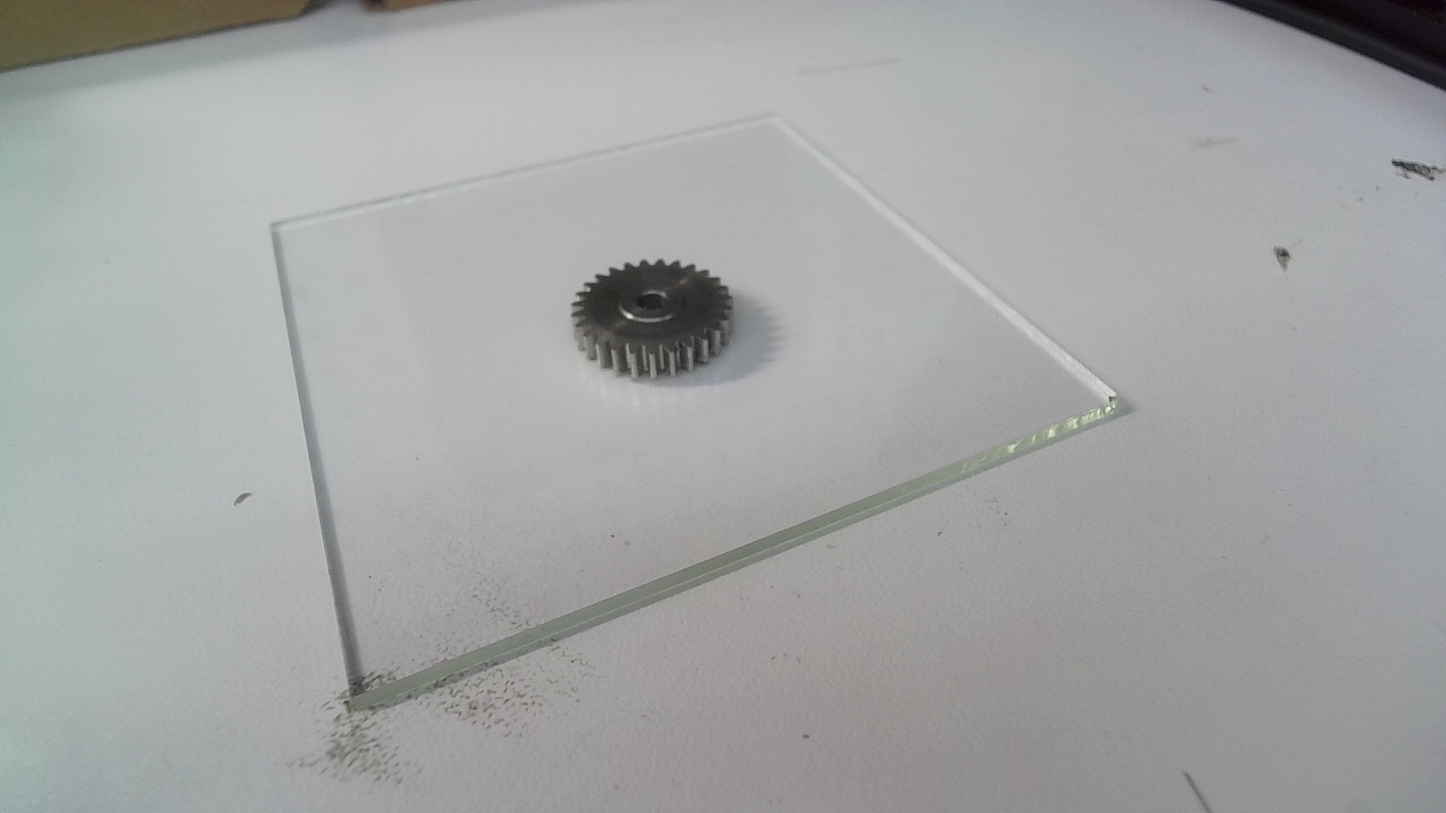gear: (566, 255, 734, 383)
